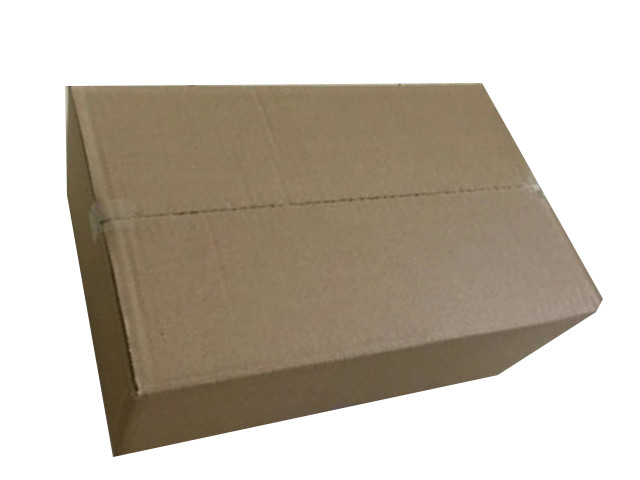cardboard: (66, 82, 604, 458)
